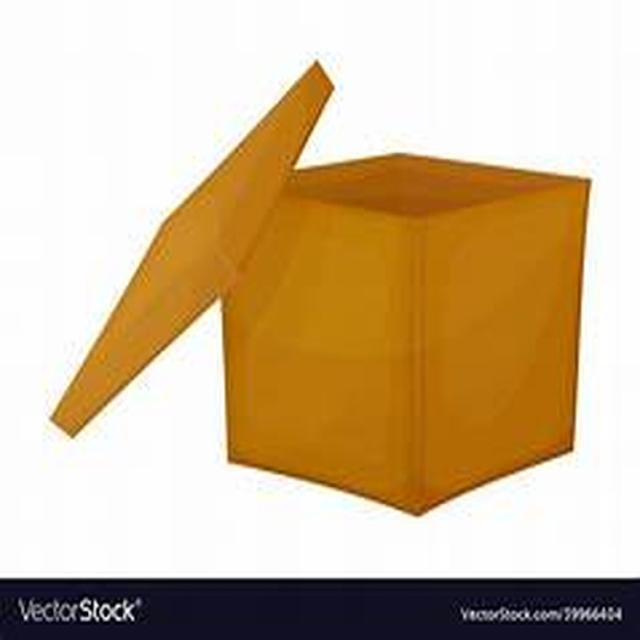box: (59, 22, 586, 524)
